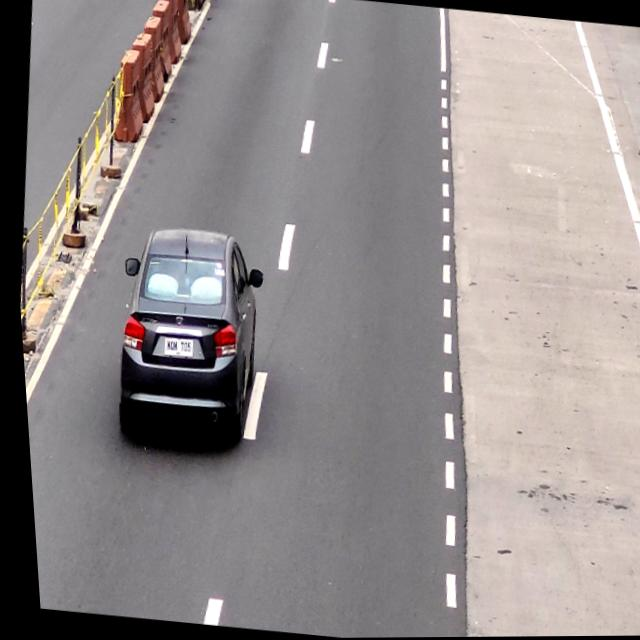Car: (103, 224, 269, 436)
License-Plate: (154, 333, 191, 362)
